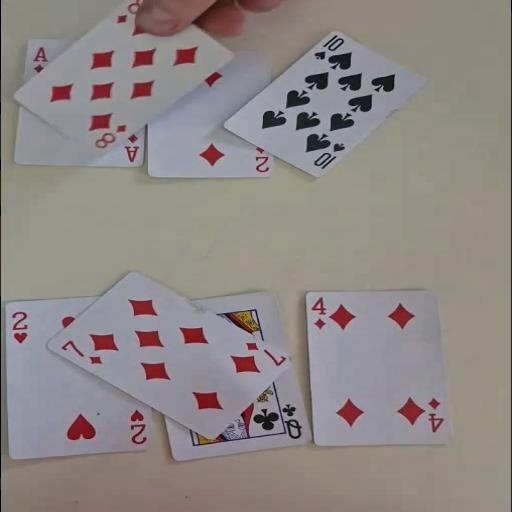10: (311, 140, 347, 170), (311, 33, 346, 61)
2: (126, 408, 148, 445), (8, 310, 28, 344), (252, 146, 272, 173)
4: (425, 395, 445, 434), (309, 295, 328, 331)
7: (57, 338, 104, 365), (243, 340, 288, 367)
8: (91, 122, 129, 150)
A: (30, 44, 50, 74), (122, 132, 140, 163)
Q: (279, 402, 304, 440)
